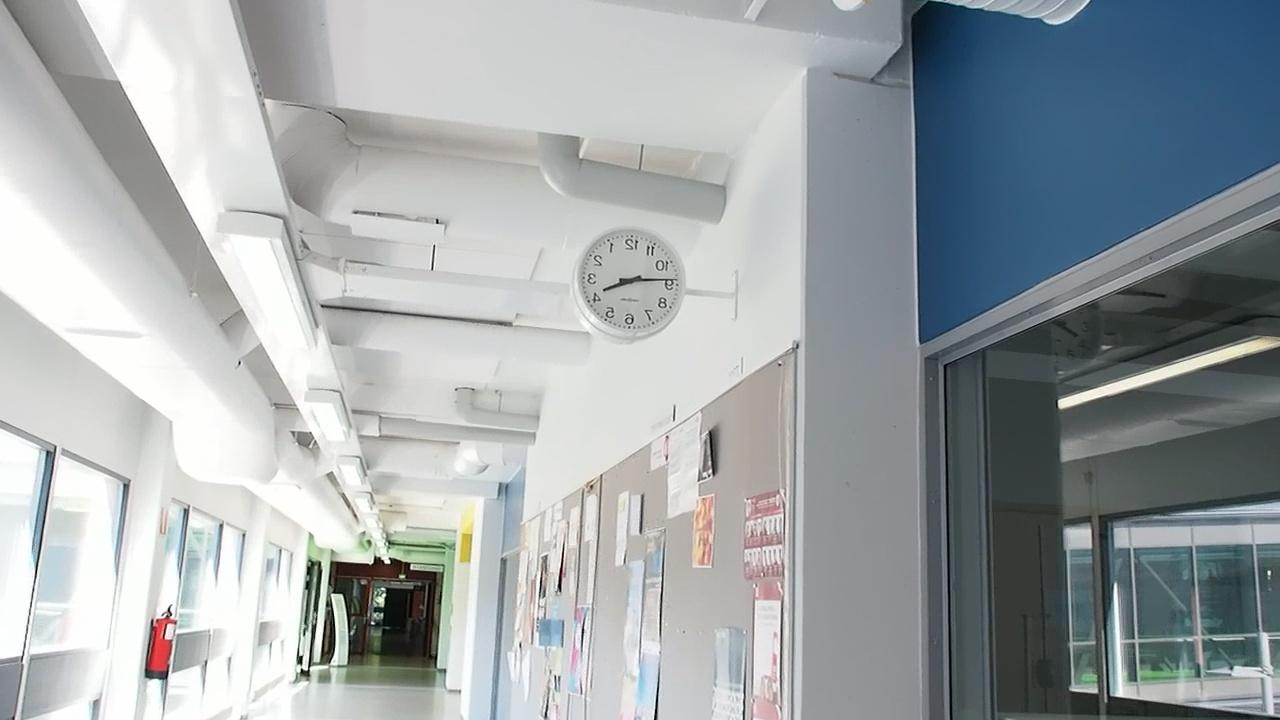clock: (573, 229, 682, 339)
